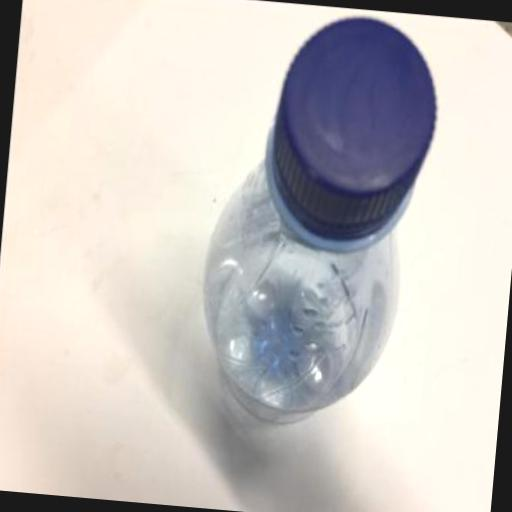plastic: (190, 4, 442, 436), (254, 9, 443, 250)
